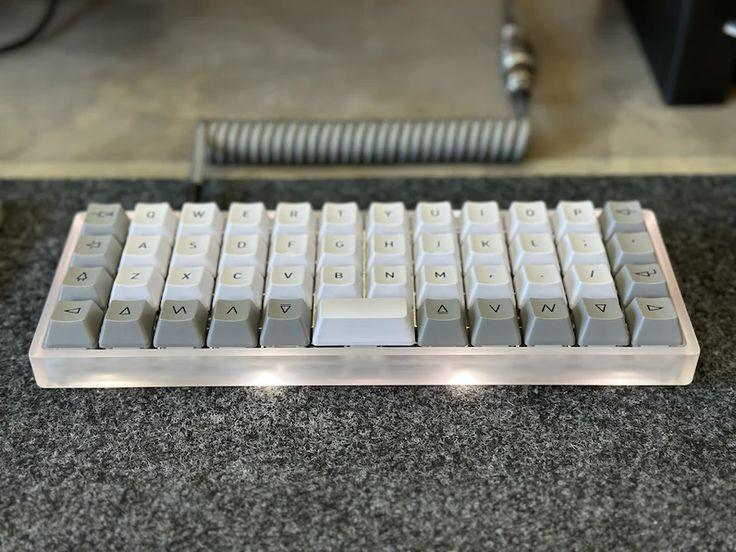keyboard: (27, 197, 701, 388)
